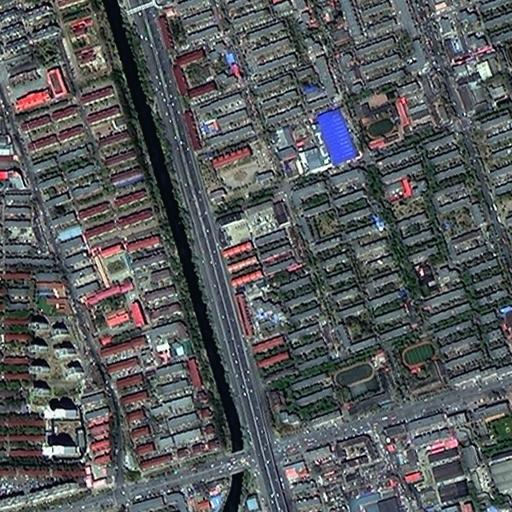school: (388, 336, 447, 402), (333, 354, 396, 415), (352, 89, 402, 153)
